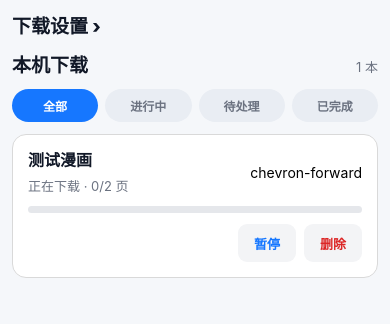
it: DownloadsScreen › shows a recoverable row error when an async action rejects
Click the button "暂停": (267, 243) [238, 224, 296, 262]
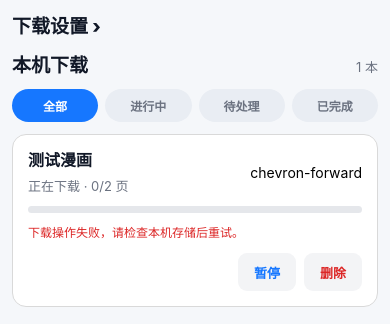
Expected: the text "暂停" is enabled, [254, 262, 280, 282]
Result: the text "下载操作失败，请检查本机存储后重试。" is shown at [28, 225, 244, 240]
